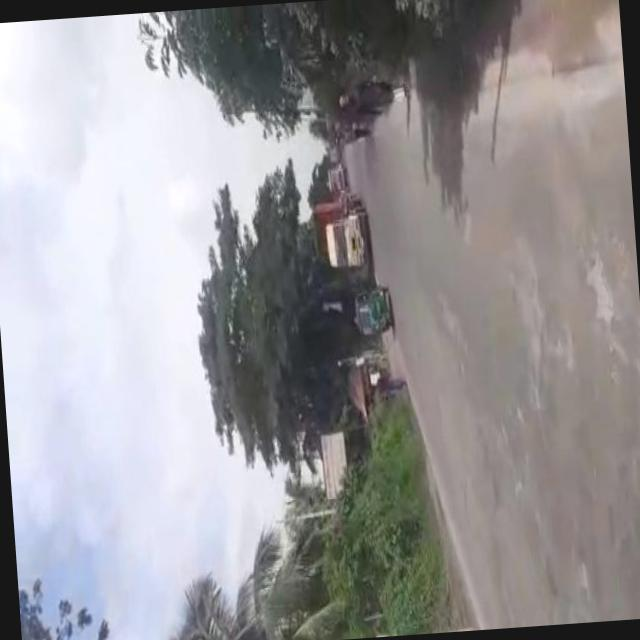motorcycle: (349, 279, 392, 334)
truck: (308, 190, 371, 266)
